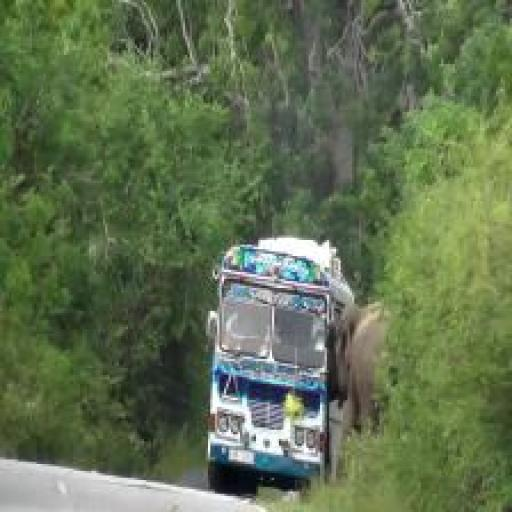Elephant: (334, 299, 395, 463)
